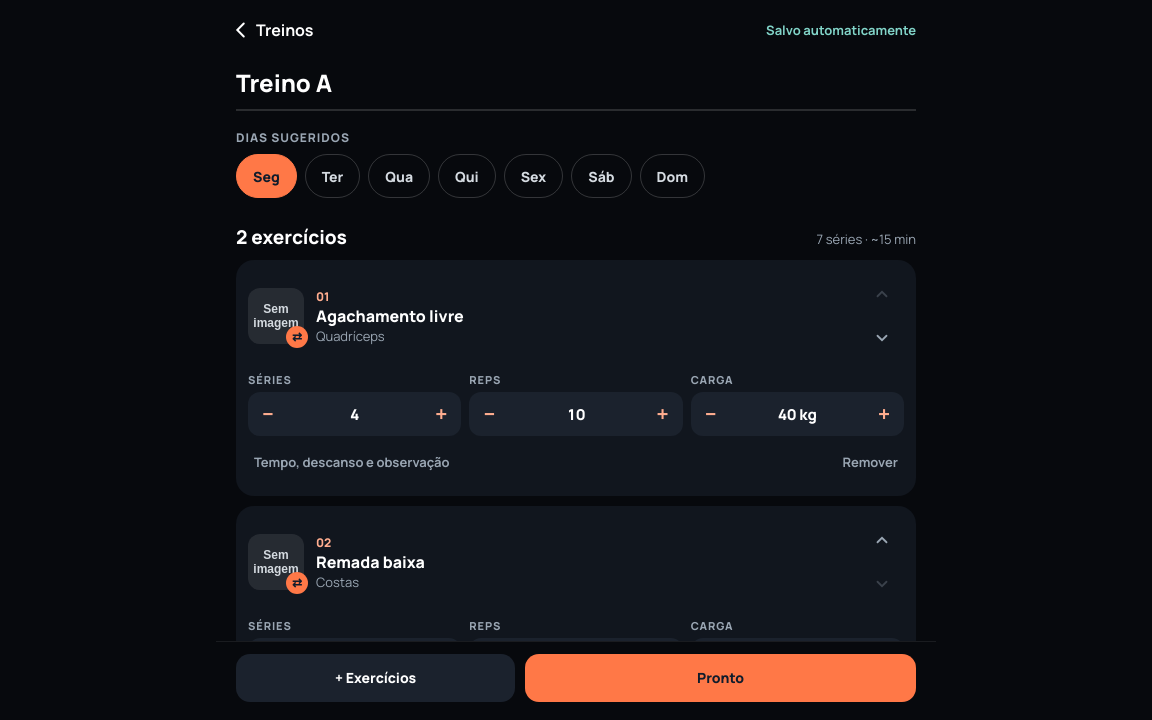
Scenario: WorkoutEditor (FIT-146) › tocar na foto troca por outro do mesmo grupo, mantendo a prescrição (EPIC-30)
Click the button with aria-label "Trocar Agachamento livre" at point(276, 316), box [248,288,304,344]
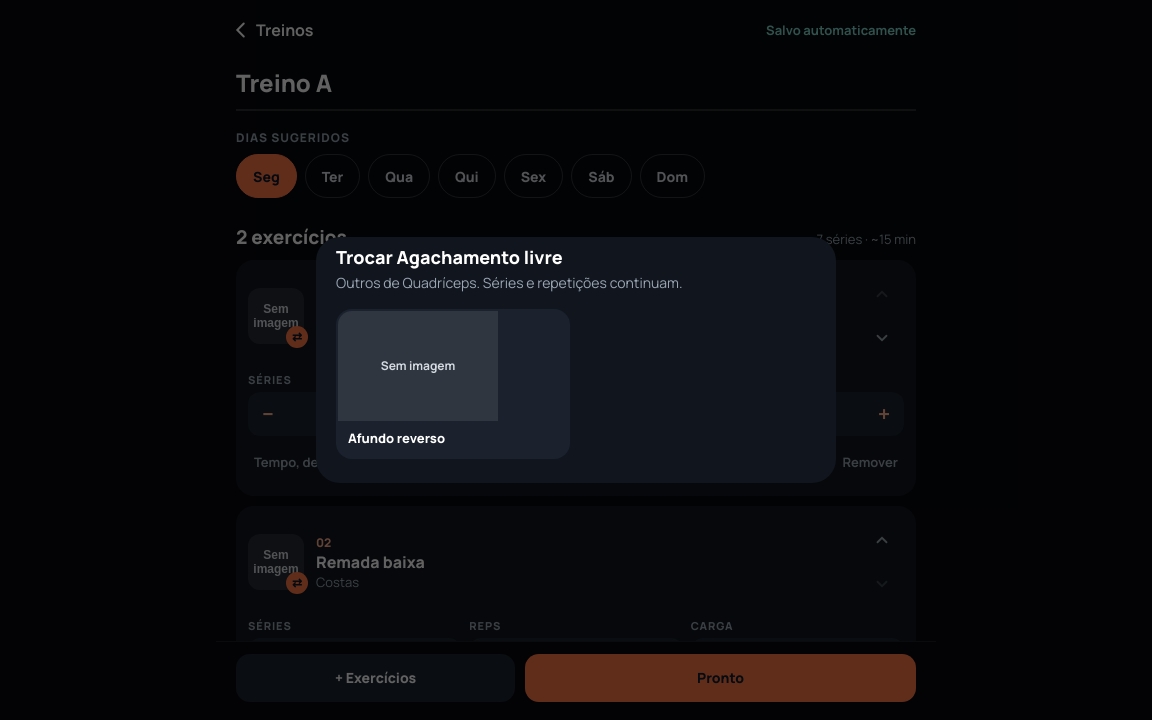
Click the button "Sem imagem Afundo reverso" at point(453, 384), box [336,309,570,459]
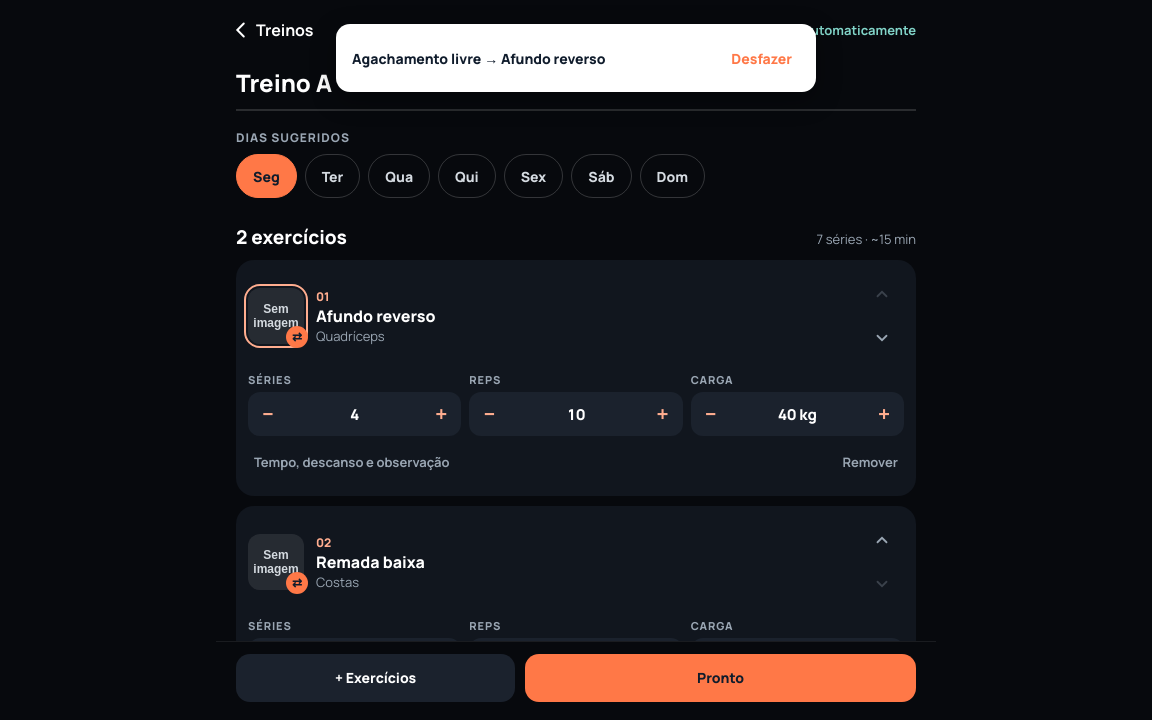
Expected: the text "40 kg" is shown, [778,404,817,424]
Expected: the text "Afundo reverso" is shown, [316,304,436,326]
